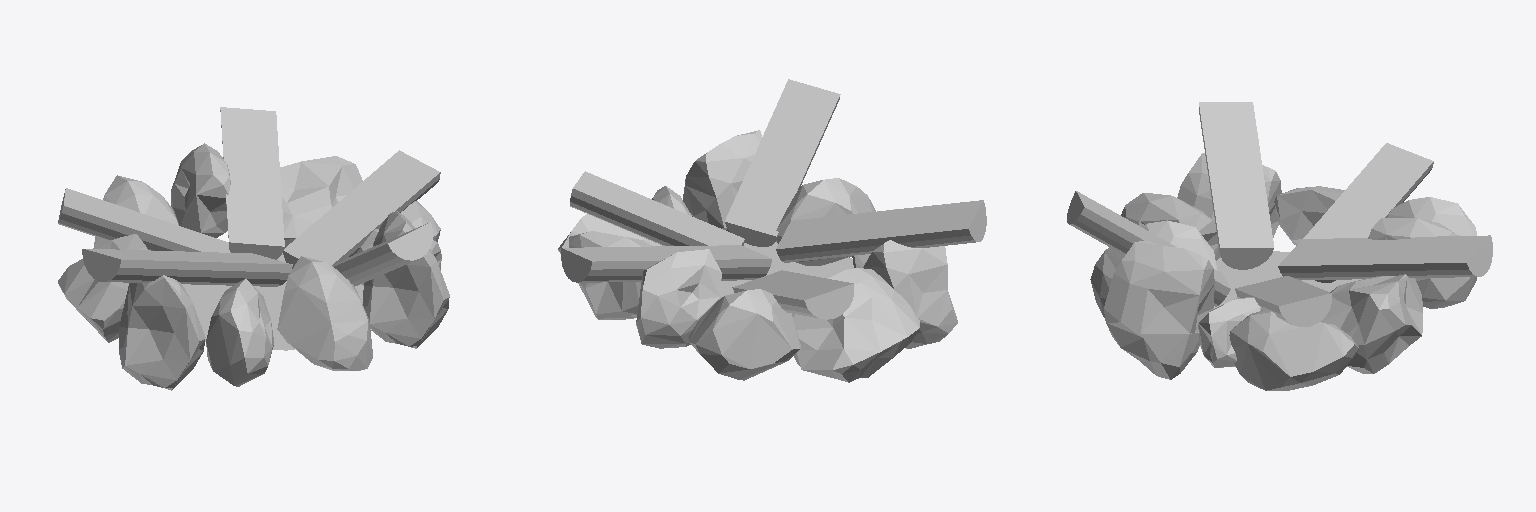
Rendered from campfire.obj.
3 views of the same model, side by side, from view 1: azimuth 30°, elevation 25°; view 2: azimuth 150°, elevation 25°; view 3: azimuth 270°, elevation 25° (orthographic).
Visible parts, largest first — view 1: Null_2; view 2: Null_2; view 3: Null_2.
Boxes of the visible parts, x1=… form: Null_2: x1=58, y1=107, x2=449, y2=390; Null_2: x1=558, y1=79, x2=986, y2=382; Null_2: x1=1067, y1=102, x2=1492, y2=390.
Bounding box in the file's own units: 1.4 × 0.6129 × 1.37.